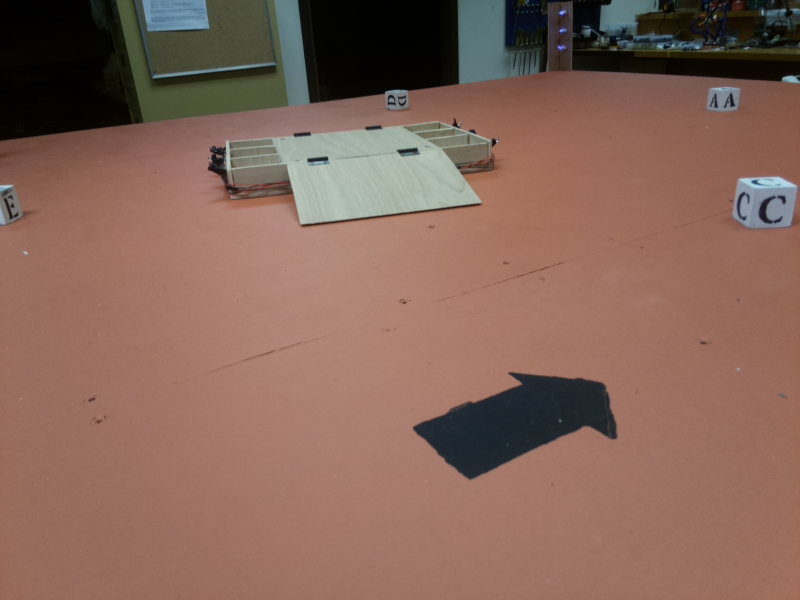blockA: (707, 86, 739, 112)
blockC: (728, 175, 798, 233)
blockD: (385, 89, 409, 112)
blockE: (1, 181, 26, 224)
side: (436, 114, 503, 150), (209, 140, 231, 199)
slope: (286, 148, 484, 229)
start: (381, 371, 619, 480)
